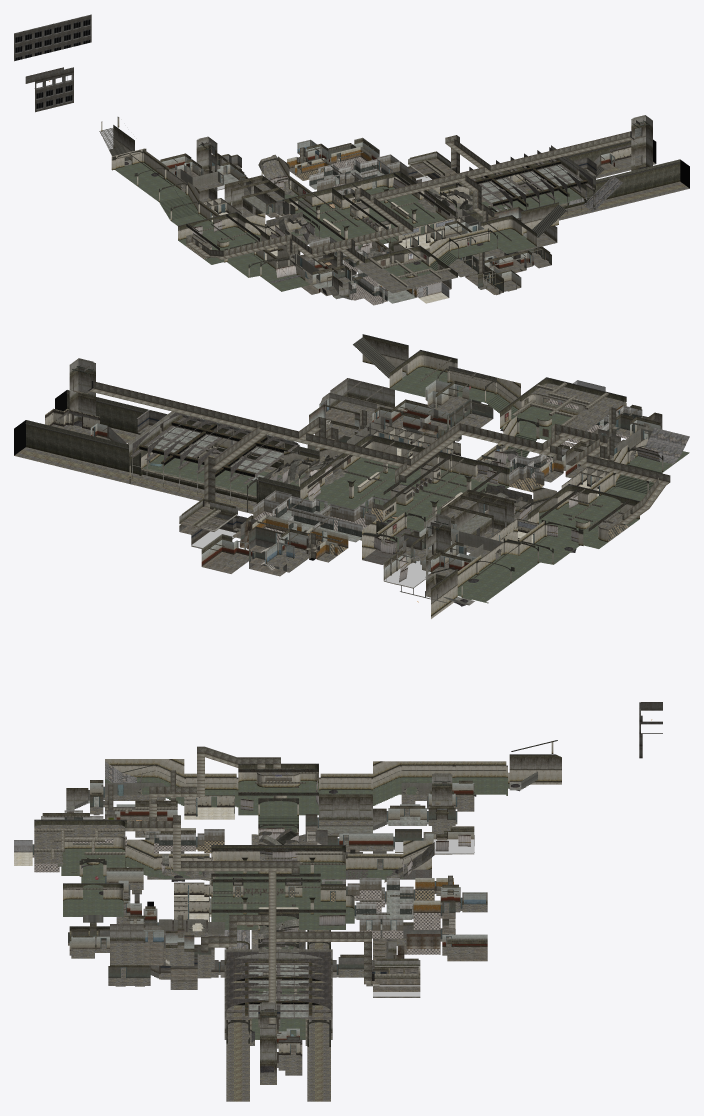
The model's file is world.glb.
The picture shows the model from 3 angles, top to bottom: view 1: azimuth 30°, elevation 25°; view 2: azimuth 150°, elevation 25°; view 3: azimuth 270°, elevation 25°; orthographic projection. The views are drawn at different scales.
Parts seen in each view (by area): view 1: tilefloor019a_2, metalduct003a_3, tilewall009b_0, prodwllh_10, concretefloor013a_5, concretewall059e_18, building_template021c_69, concretefloor034a_51, concretewall036a_25, concretewall020a_100, tilewall009d_11, concretewall009a_22 (+19 smaller); view 2: tilefloor019a_2, metalduct003a_3, prodwllh_10, tilewall009b_0, concretefloor013a_5, concretewall059e_18, train_brick_wall_02_78, tilewall009d_11, concretewall036a_25, concretewall059f_29, concretewall020a_100, concretewall009a_22 (+23 smaller); view 3: concretefloor013a_5, tilefloor019a_2, tilewall009b_0, prodwllh_10, metalduct003a_3, concretewall036a_25, concretefloor006a_7, prodibeama_34, train_brick_wall_02_78, concretefloor034a_51, concretewall059e_18, concretewall037d_41 (+17 smaller).
Part boxes in pixels (x1=…): tilefloor019a_2: x1=115, y1=162, x2=582, y2=291; metalduct003a_3: x1=186, y1=131, x2=632, y2=293; tilewall009b_0: x1=101, y1=117, x2=595, y2=280; prodwllh_10: x1=113, y1=115, x2=652, y2=299; concretefloor013a_5: x1=169, y1=152, x2=689, y2=295; concretewall059e_18: x1=113, y1=125, x2=680, y2=277; building_template021c_69: x1=14, y1=14, x2=91, y2=112; concretefloor034a_51: x1=221, y1=165, x2=580, y2=303; concretewall036a_25: x1=469, y1=147, x2=594, y2=211; concretewall020a_100: x1=309, y1=159, x2=392, y2=302; tilewall009d_11: x1=203, y1=146, x2=631, y2=256; concretewall009a_22: x1=186, y1=154, x2=451, y2=297; tilefloor019a_2: x1=143, y1=367, x2=689, y2=603; metalduct003a_3: x1=89, y1=358, x2=670, y2=559; prodwllh_10: x1=69, y1=337, x2=662, y2=603; tilewall009b_0: x1=129, y1=354, x2=663, y2=618; concretefloor013a_5: x1=14, y1=366, x2=651, y2=597; concretewall059e_18: x1=25, y1=334, x2=639, y2=590; train_brick_wall_02_78: x1=90, y1=402, x2=604, y2=572; tilewall009d_11: x1=45, y1=408, x2=635, y2=552; concretewall036a_25: x1=130, y1=412, x2=298, y2=484; concretewall059f_29: x1=26, y1=406, x2=386, y2=532; concretewall020a_100: x1=272, y1=405, x2=642, y2=537; concretewall009a_22: x1=253, y1=398, x2=629, y2=553; concretefloor013a_5: x1=34, y1=769, x2=487, y2=1101; tilefloor019a_2: x1=61, y1=777, x2=509, y2=1039; tilewall009b_0: x1=63, y1=741, x2=561, y2=949; prodwllh_10: x1=42, y1=757, x2=561, y2=1076; metalduct003a_3: x1=34, y1=746, x2=456, y2=1033; concretewall036a_25: x1=225, y1=951, x2=331, y2=1018; concretefloor006a_7: x1=68, y1=806, x2=487, y2=1054; prodibeama_34: x1=71, y1=769, x2=345, y2=1023; train_brick_wall_02_78: x1=100, y1=783, x2=487, y2=1043; concretefloor034a_51: x1=88, y1=796, x2=428, y2=1017; concretewall059e_18: x1=34, y1=754, x2=561, y2=966; concretewall037d_41: x1=71, y1=795, x2=455, y2=981.
Size of the model in its own units: 162 by 43.08 by 163.
113 materials, 109 textured.
